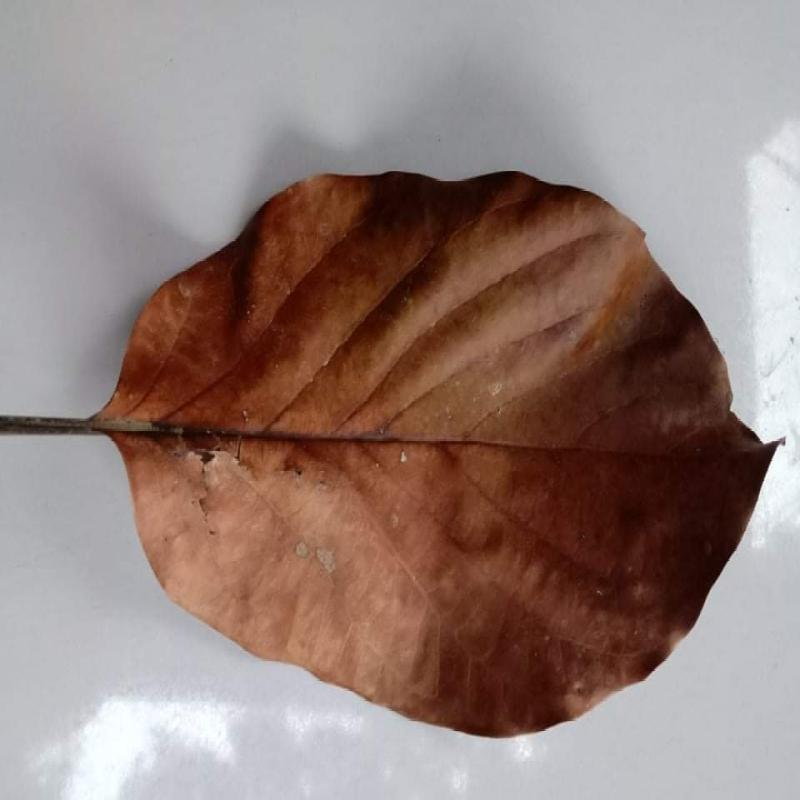treeleaves: (0, 171, 784, 741)
